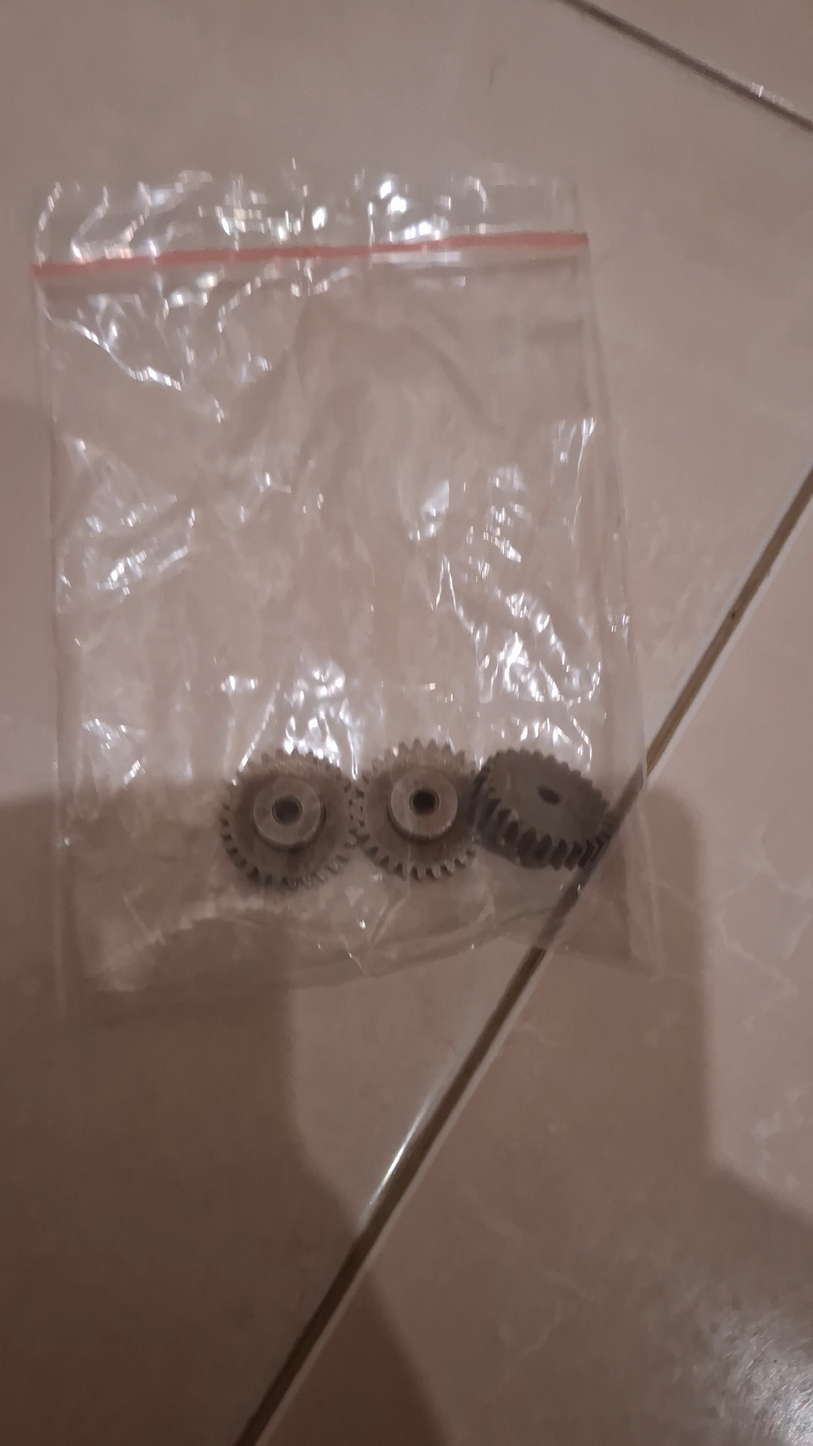spur gear: (216, 750, 362, 892), (468, 746, 617, 872), (353, 743, 487, 882)
